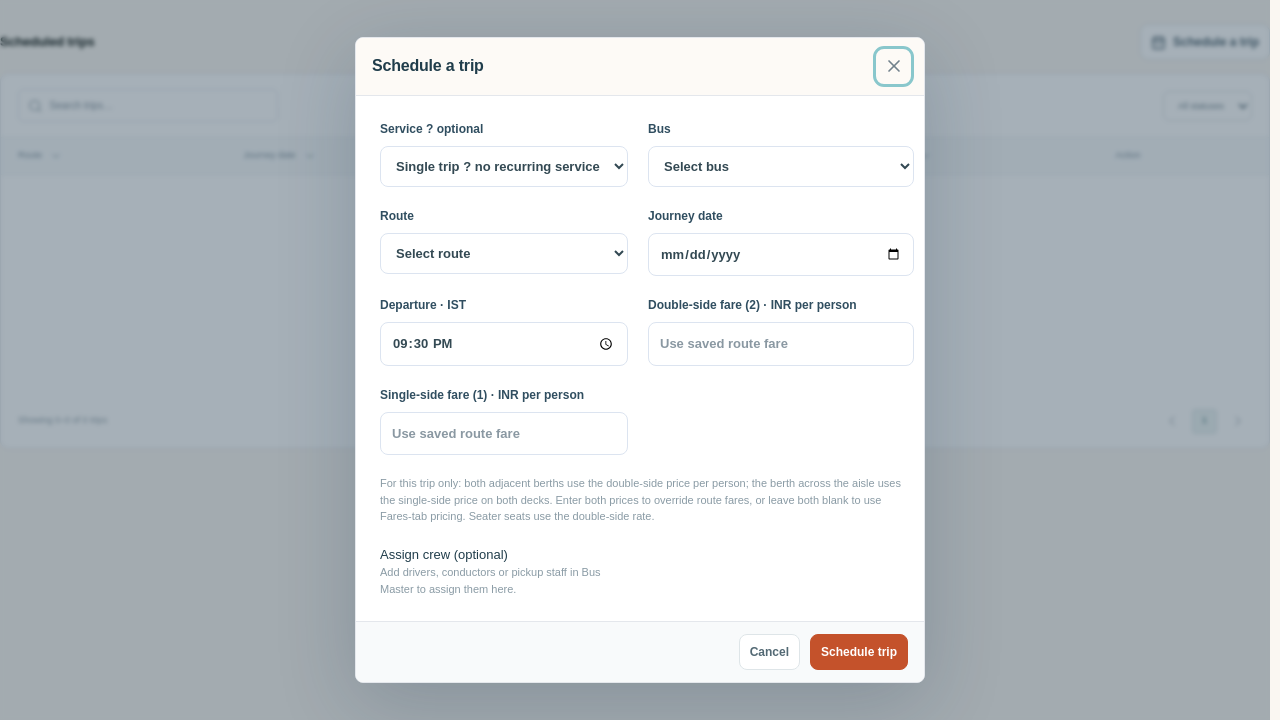
Test case: saves a missing layout inside scheduling without submitting the trip or losing its draft
Earlier steps of the test are not shown.
Later steps or results of the test are not shown.
Select "MP04YM7789 · Choudhary's Travels" in the dropdown labelled "Bus" at (781, 166), box [648,146,914,187]
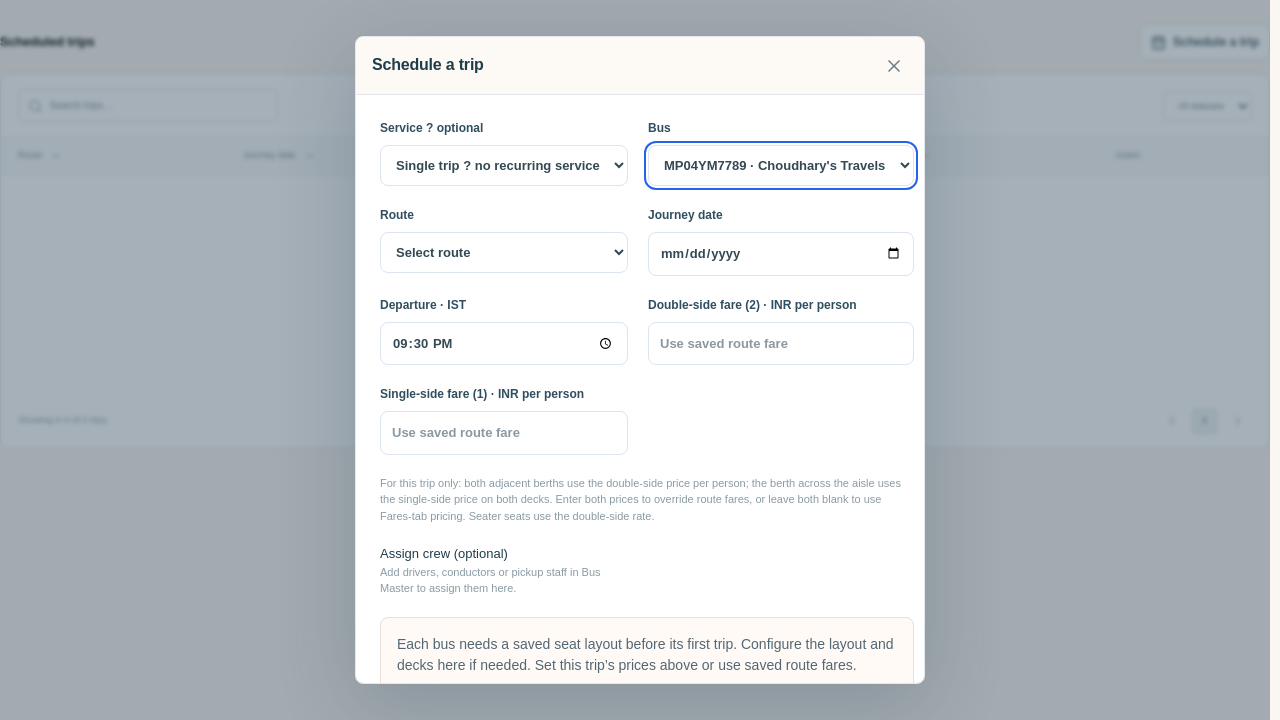
Select "Pune → Bhopal" in the dropdown labelled "Route" at (504, 252), box [380,232,628,273]
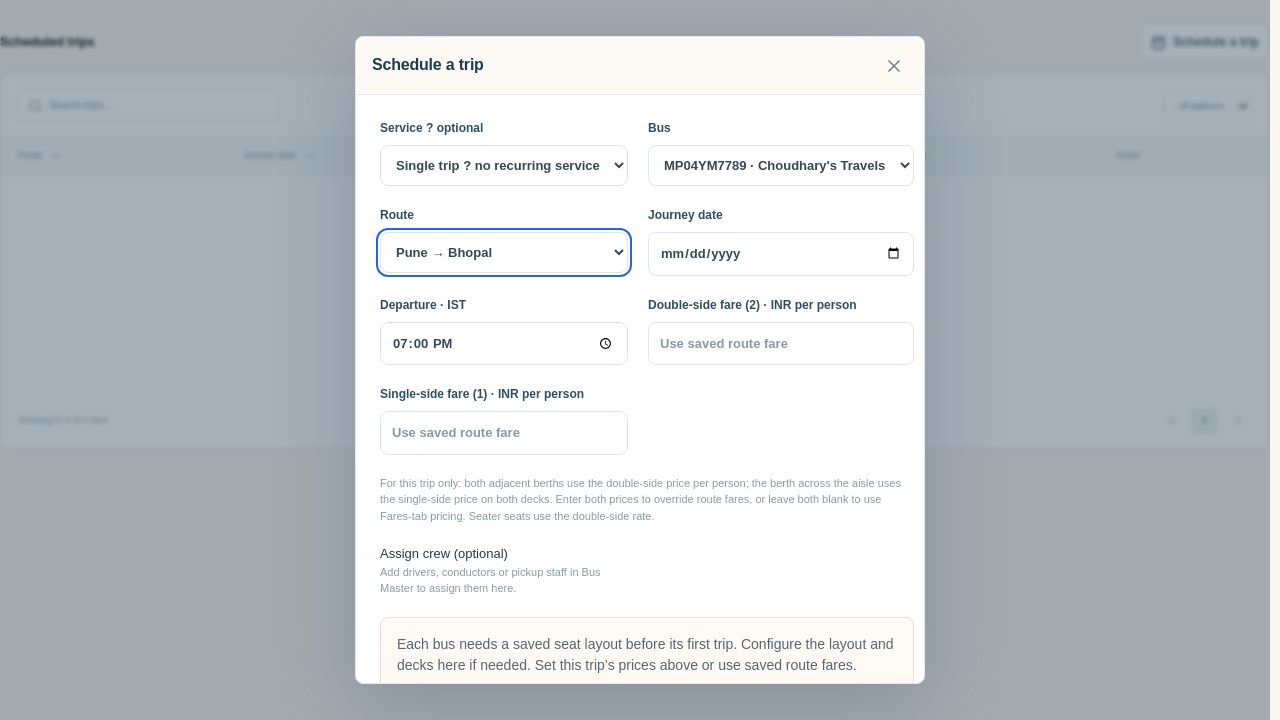
Type "2026-11-16" into the date field labelled "Journey date" at (781, 254), box [648,232,914,276]
(page scrolled)
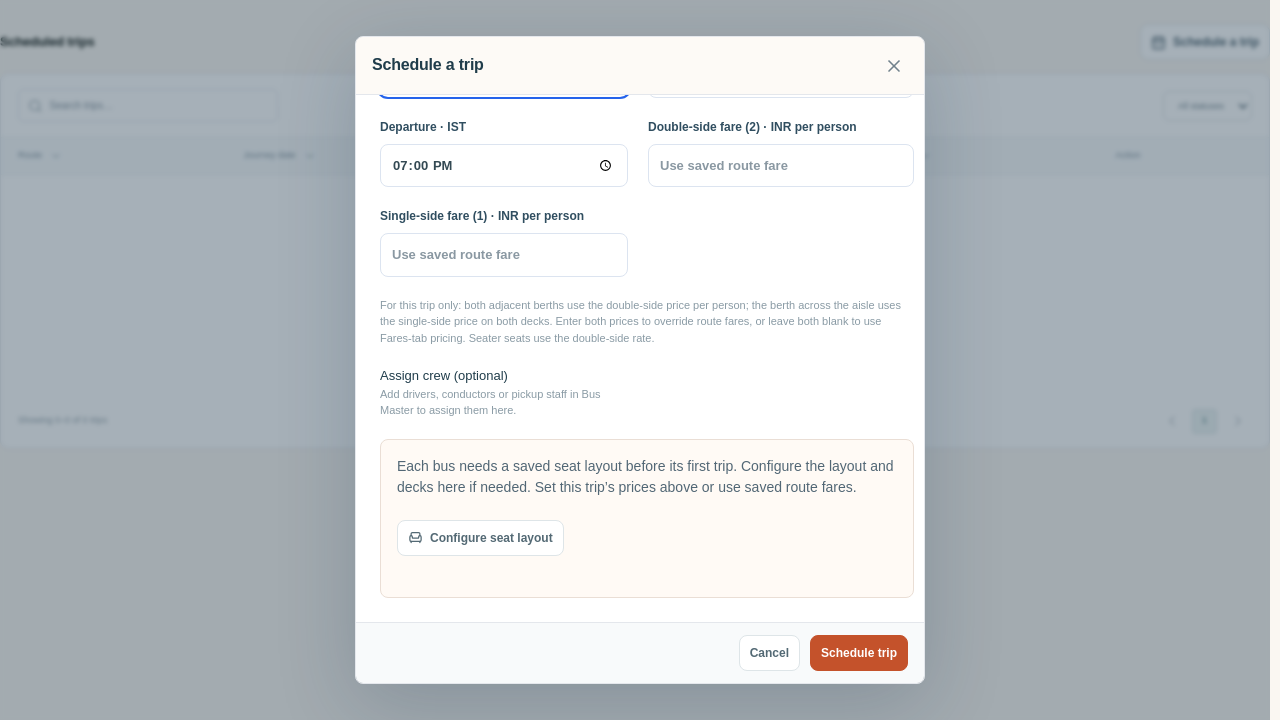
Click the button "Schedule trip" at (859, 653), box [810,635,908,671]
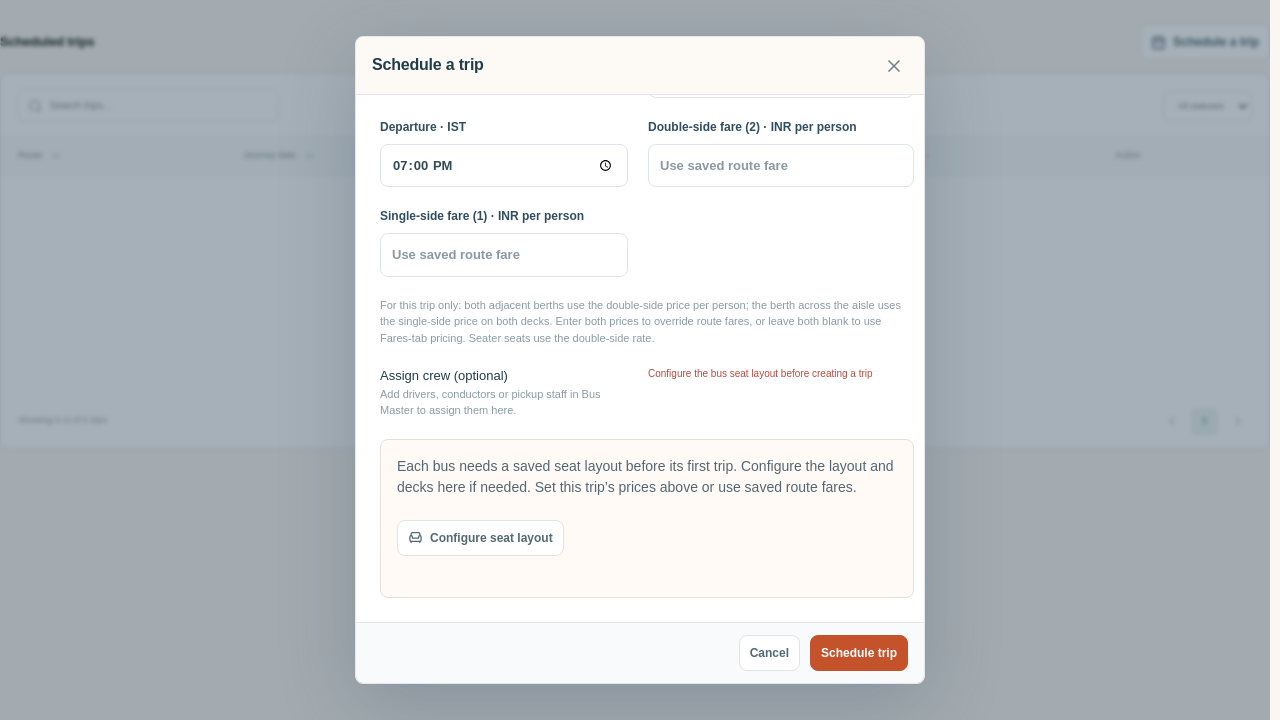
Check: the message shows "Configure the bus seat layout", box [648,368,873,379]
Click the button "Configure seat layout" at (480, 538), box [397,520,564,556]
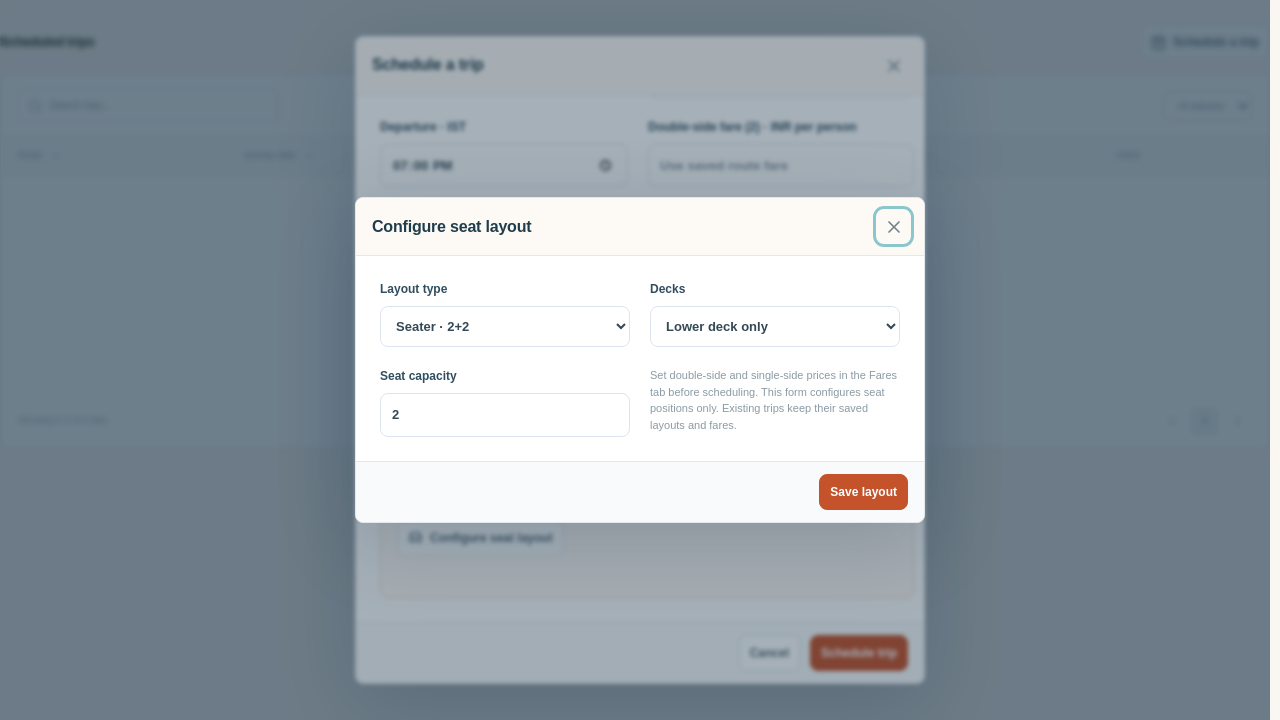
Check: the dropdown labelled "Layout type" shows "Seater · 2+2", box [380,306,630,347]
Check: the dropdown labelled "Decks" shows "Lower deck only", box [650,306,900,347]
Click the button "Save layout" at (864, 492), box [819,474,908,510]
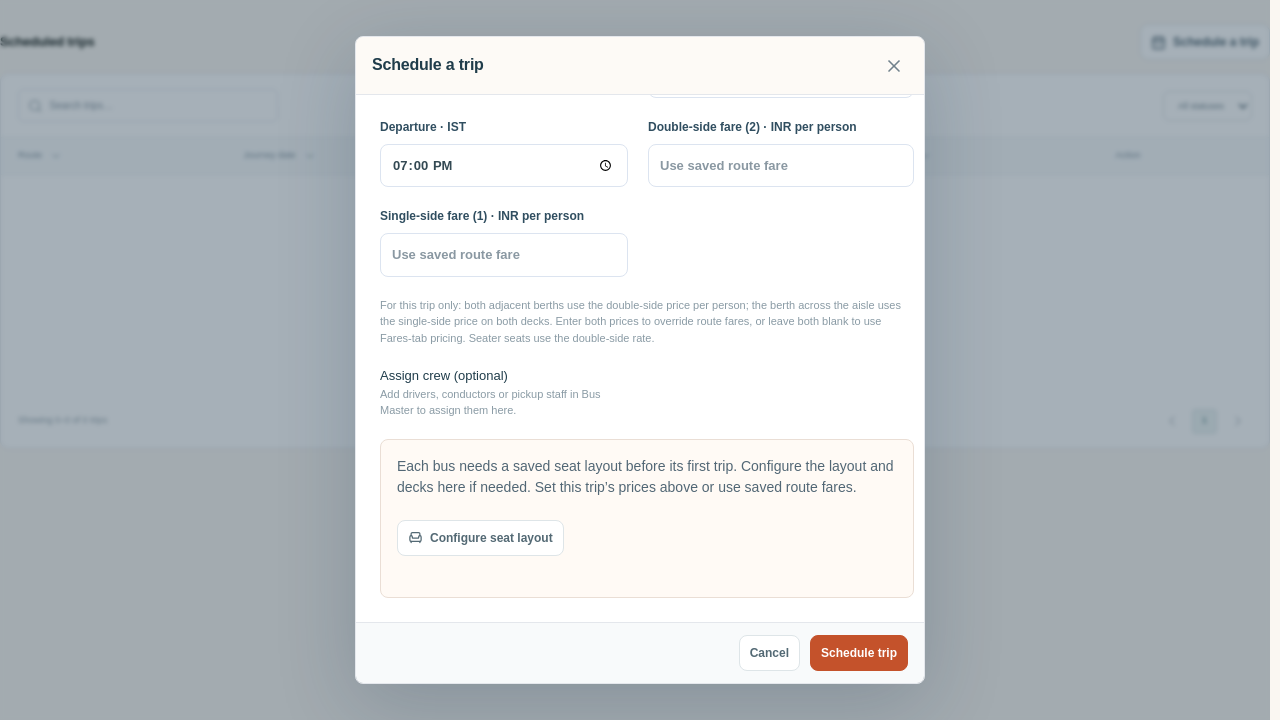
Check: the time field labelled "Departure · IST" holds "19:00", box [380,144,628,187]
Check: the message "Configure the bus seat layout before creating a trip" is gone
